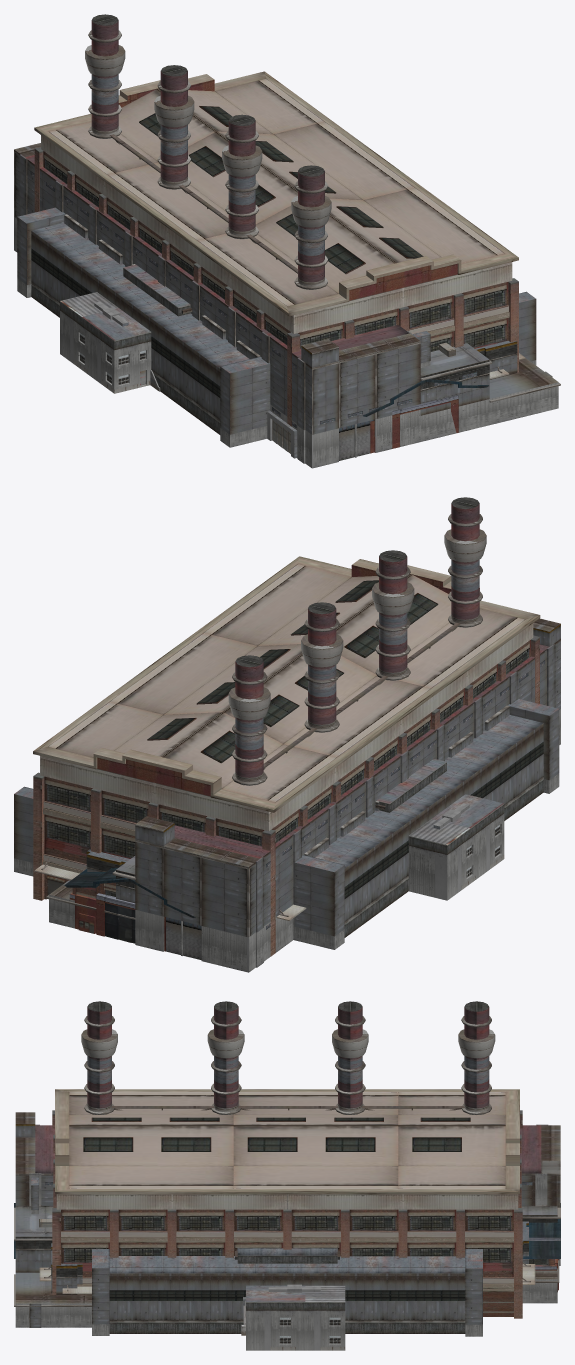
The model's file is port_halls.glb.
3 renders of one model, top to bottom at view 1: azimuth 30°, elevation 25°; view 2: azimuth 150°, elevation 25°; view 3: azimuth 270°, elevation 25°, orthographic. The views are drawn at different scales.
Visible parts, largest first — view 1: hall_building_10, hall_powerplant, hall_hangar, hall_terminal, hall_factory_2, hall_warehouse_1; view 2: hall_building_10, hall_powerplant, hall_hangar, hall_terminal, hall_factory_2, hall_warehouse_1; view 3: hall_building_10, hall_powerplant, hall_hangar, hall_terminal, hall_warehouse_1, hall_factory_2.
Part boxes in pixels (x1,y1,x2,y2): hall_building_10: [34, 71, 525, 426]; hall_powerplant: [14, 14, 560, 468]; hall_hangar: [17, 207, 536, 447]; hall_terminal: [60, 292, 160, 393]; hall_factory_2: [363, 379, 488, 453]; hall_warehouse_1: [123, 264, 192, 316]; hall_building_10: [33, 556, 540, 956]; hall_powerplant: [46, 497, 560, 972]; hall_hangar: [14, 698, 559, 949]; hall_terminal: [408, 794, 504, 900]; hall_factory_2: [64, 868, 195, 951]; hall_warehouse_1: [375, 758, 446, 812]; hall_building_10: [39, 1089, 535, 1318]; hall_powerplant: [14, 1001, 560, 1327]; hall_hangar: [92, 1249, 482, 1336]; hall_terminal: [241, 1284, 345, 1350]; hall_warehouse_1: [235, 1248, 339, 1263]; hall_factory_2: [14, 1203, 560, 1291].
Size of the model in its own units: 5 by 3.26 by 7.
8 materials, 8 textured.
